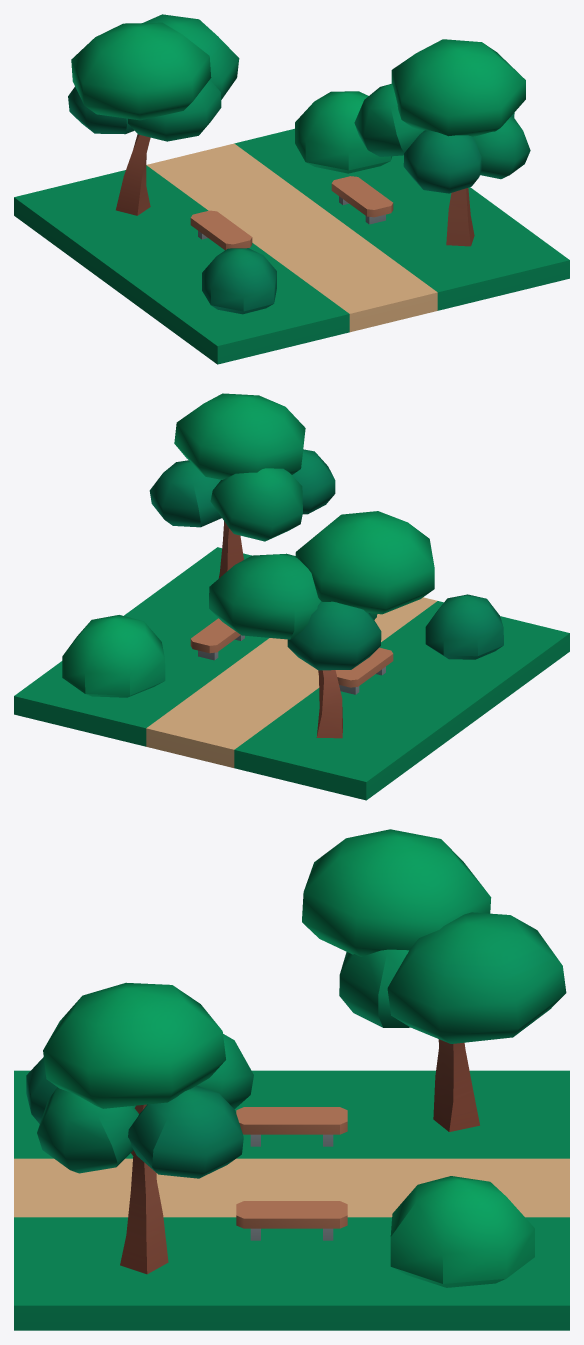
Rendered from park_road_straight_decorated_A.glb.
The picture shows the model from 3 angles, top to bottom: view 1: azimuth 30°, elevation 25°; view 2: azimuth 150°, elevation 25°; view 3: azimuth 270°, elevation 25°; orthographic projection. The views are drawn at different scales.
Parts seen in each view (by area): view 1: park_road_straight_decorated_A; view 2: park_road_straight_decorated_A; view 3: park_road_straight_decorated_A.
Part boxes in pixels (<box>): park_road_straight_decorated_A: <box>14,14,569,364</box>; park_road_straight_decorated_A: <box>14,393,569,800</box>; park_road_straight_decorated_A: <box>14,829,569,1330</box>.
Size of the model in its own units: 2 by 1.19 by 2.
Materials: 1 (1 with a texture image).
